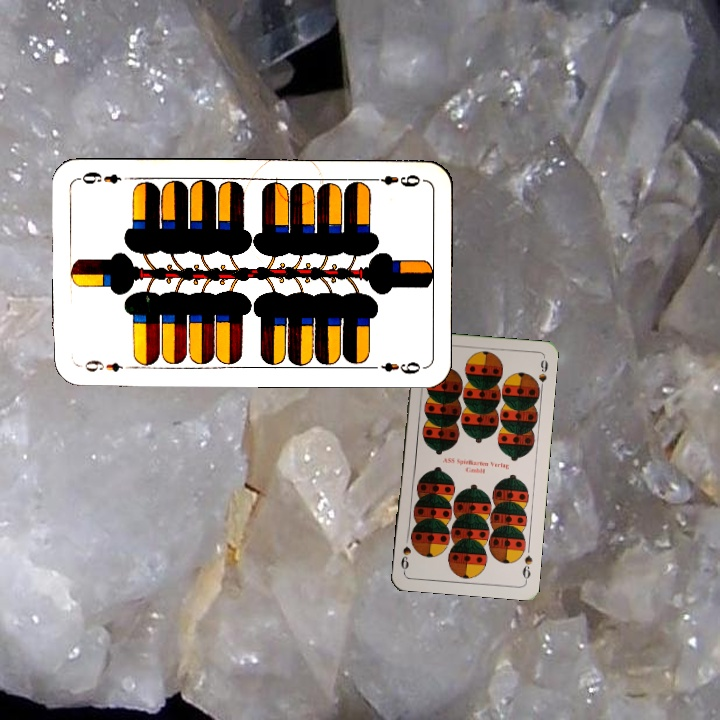E9: (367, 170, 423, 190), (76, 356, 125, 374)
S9: (519, 551, 535, 584)
